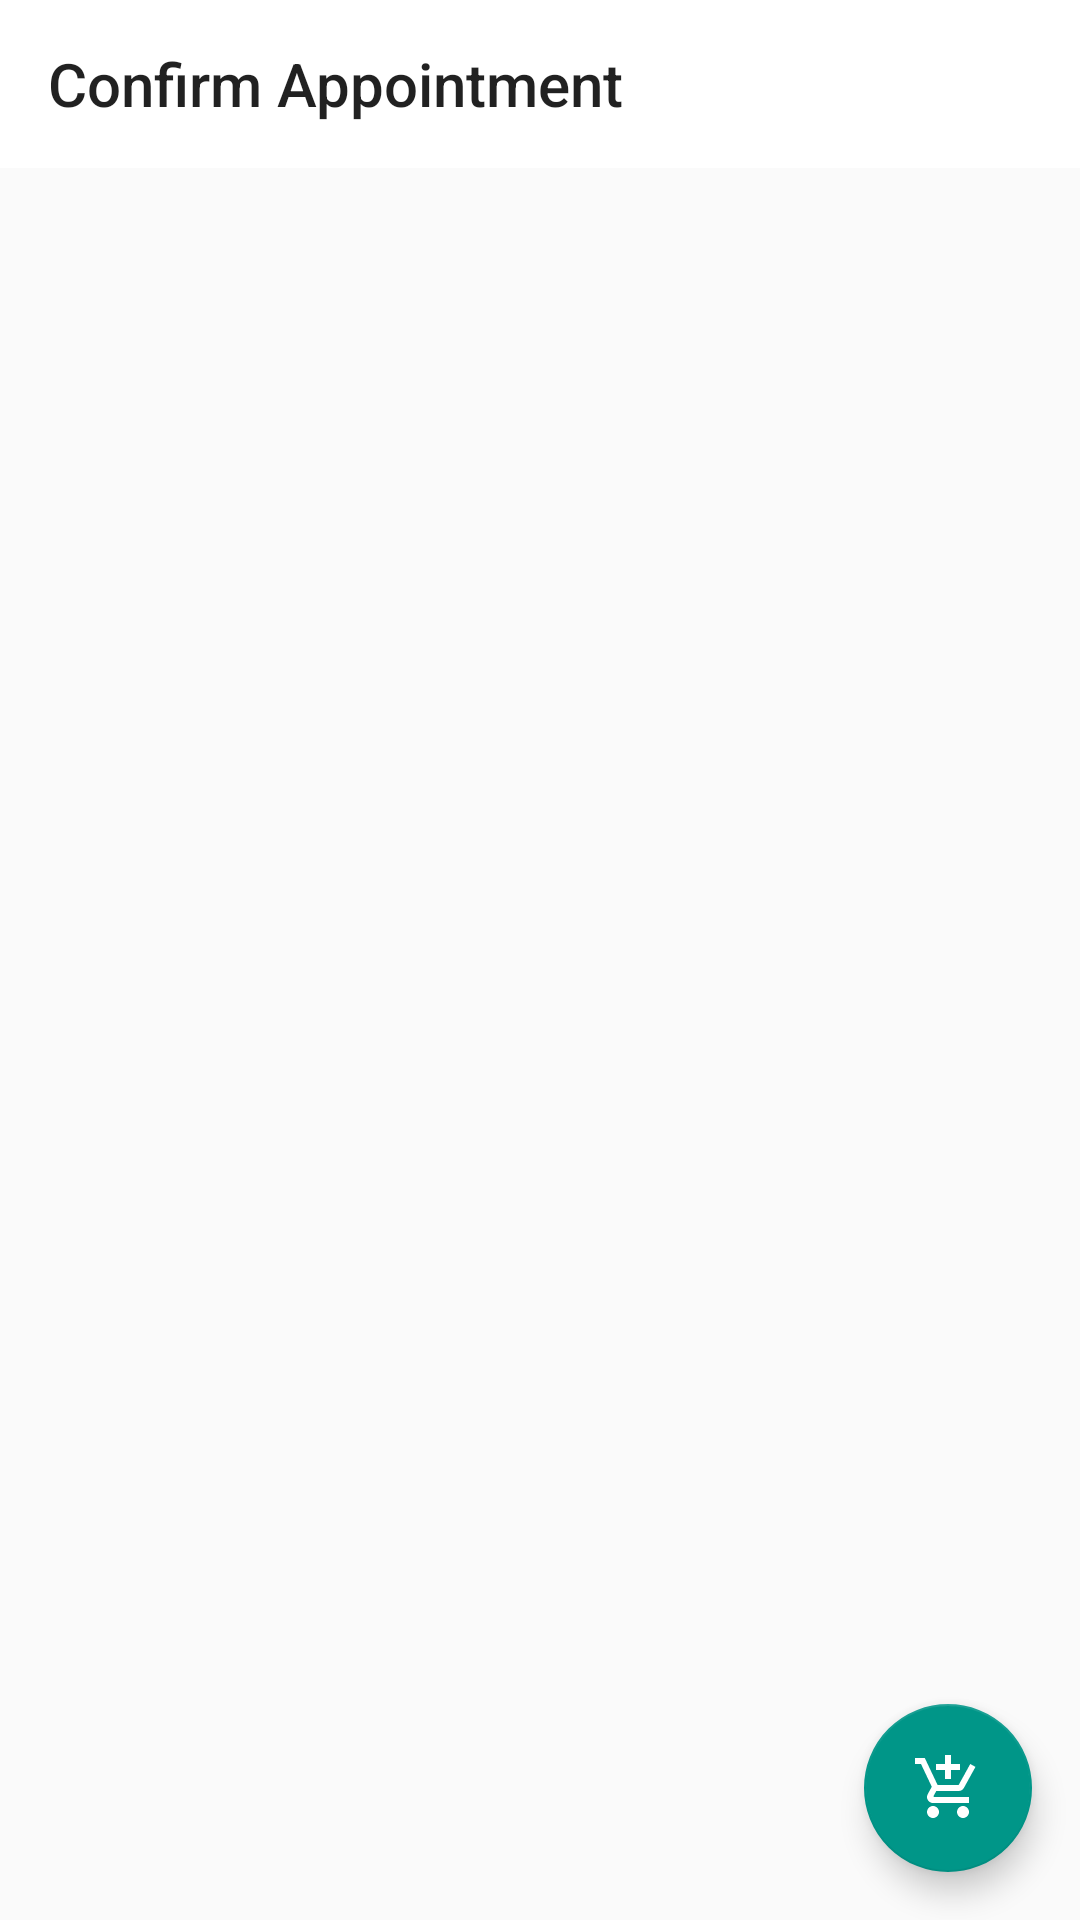

Screen size 1080px x 1920px. Icon name, then its center in pixels as point (x, y):
add shopping cart: point (948, 1788)
